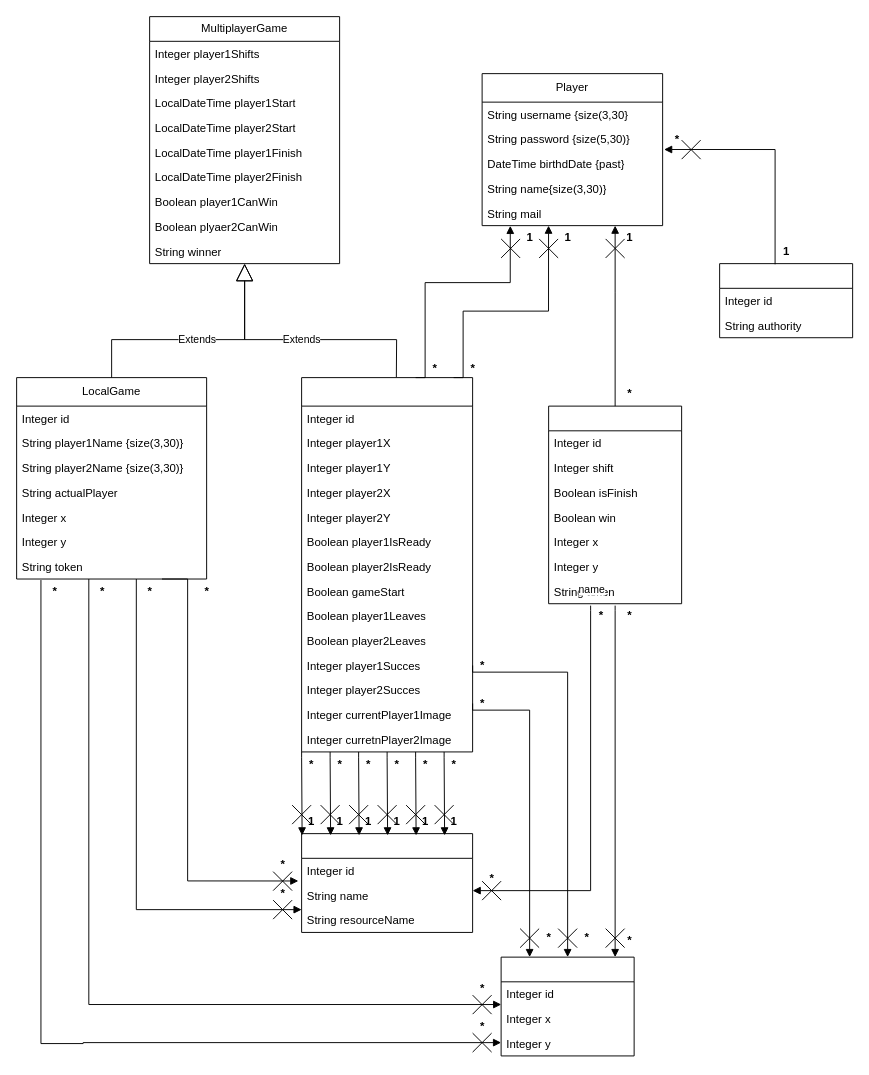
Image size: 869x1075. Some labels were removed from this diagram. Each missing label, with the box of its shape:
Authorities: (719, 263, 853, 338)
GameAlone: (548, 405, 682, 604)
Image: (301, 833, 473, 932)
OnlineGame: (301, 377, 473, 752)
Posición: (500, 956, 634, 1056)
